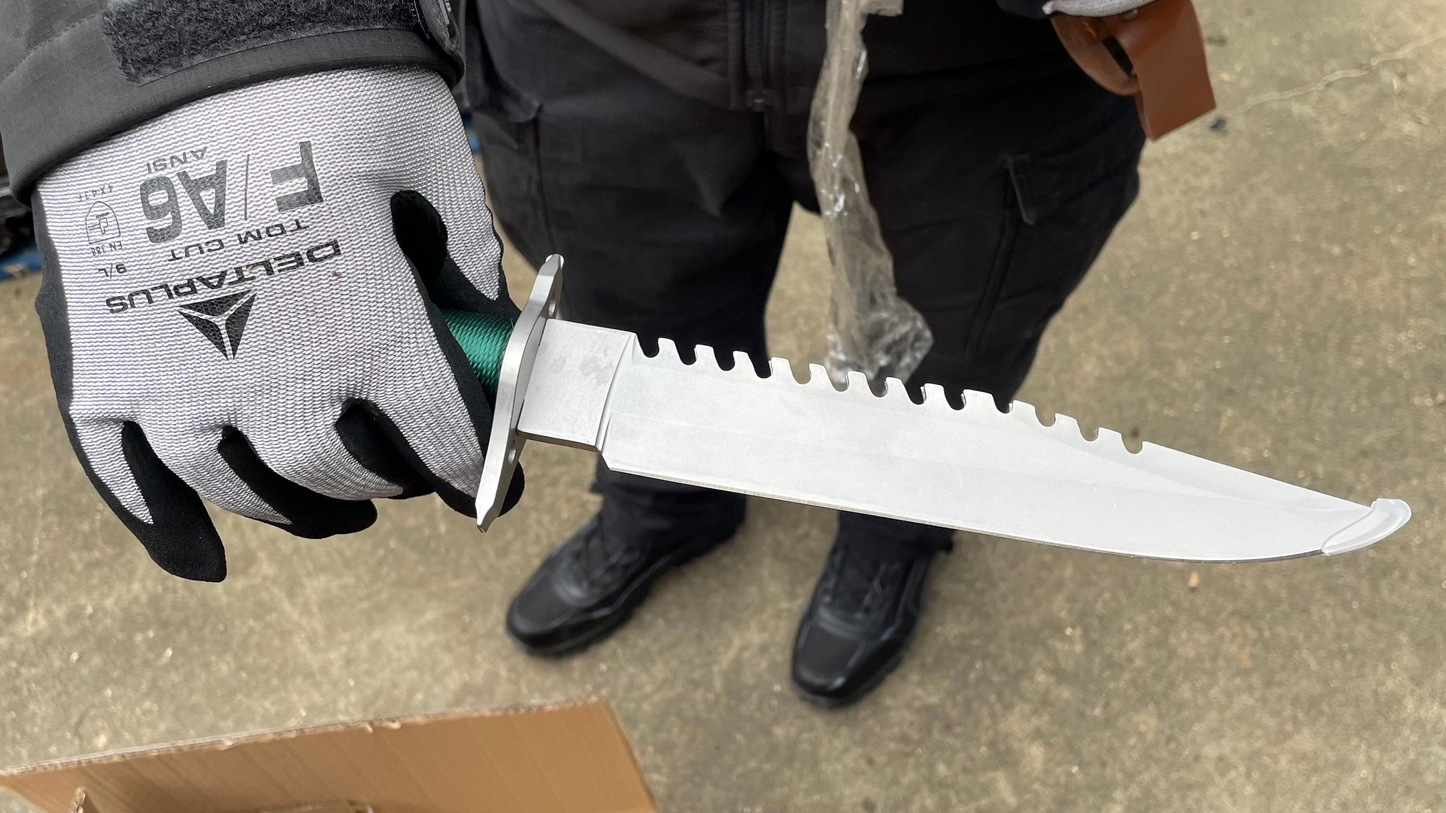Knife: (0, 0, 1215, 707), (478, 257, 1411, 566), (31, 73, 523, 578)
